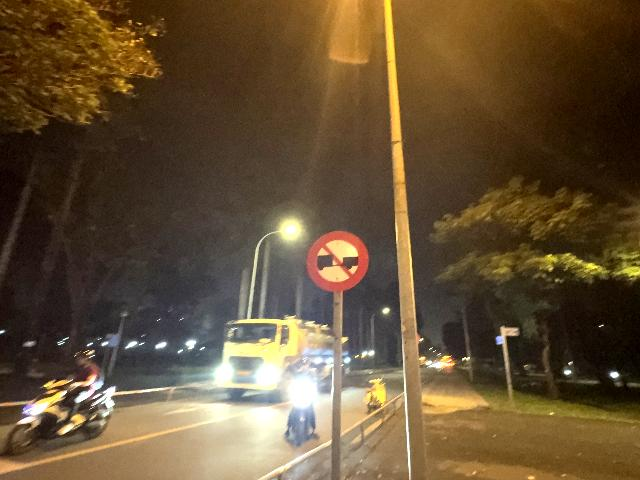cam-xe-somi-romooc: (307, 230, 369, 292)
